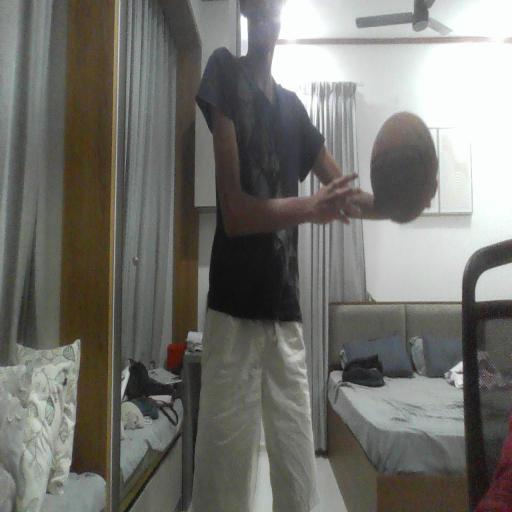basketball: (371, 112, 438, 222), (240, 0, 286, 17)
